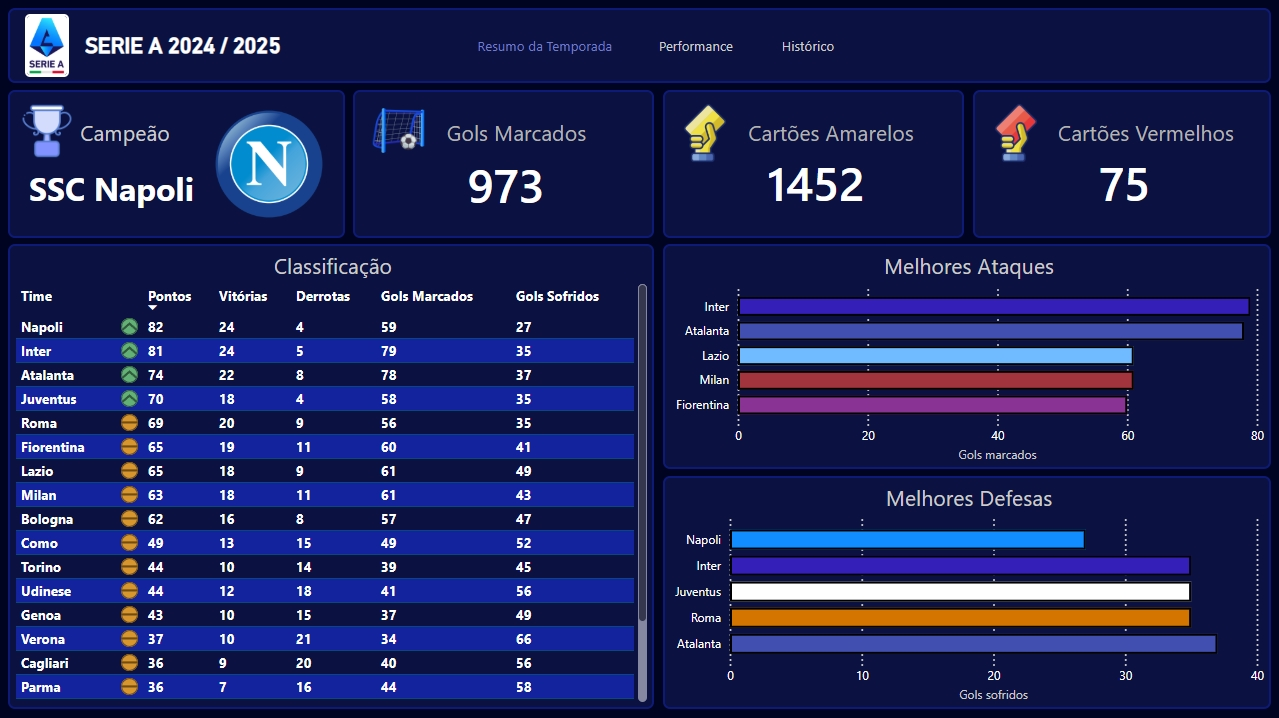

This screenshot's page, from the dashboard's own definition file:
{"tool":"powerbi","page":{"name":"Overview","canvas":[1280,720],"ordinal":0},"visuals":[{"type":"textbox","box":[8,9,1263,75],"z":0},{"type":"image","box":[25,15,44,63],"z":1000},{"type":"actionButton","box":[469,28,152,37],"z":1000,"group":"g1"},{"type":"textbox","box":[79,28,223,37],"z":2000},{"type":"group","id":"g1","title":"Grupo 1","box":[469,28,385,37],"z":3000},{"type":"actionButton","box":[652,28,88,37],"z":3000,"group":"g1"},{"type":"group","id":"g2","title":"Grupo 3","box":[8,91,337,148],"z":4000},{"type":"cardVisual","fields":{"Data":["Min(season_stats.team)"]},"box":[8,91,337,148],"z":4000,"group":"g2"},{"type":"cardVisual","fields":{"Data":["Sum(season_stats.yellow_cards)"]},"box":[663,91,301,148],"z":4000,"group":"g4"},{"type":"actionButton","box":[762,28,92,37],"z":5000,"group":"g1"},{"type":"group","id":"g3","title":"Grupo 4","box":[353,91,301,148],"z":5000},{"type":"image","box":[662,100,85,68],"z":5000,"group":"g4"},{"type":"textbox","box":[67,114,116,43],"z":5000,"group":"g5"},{"type":"textbox","box":[24,162,178,59],"z":5000,"group":"g2"},{"type":"group","id":"g4","title":"Grupo 5","box":[662,91,302,148],"z":6000},{"type":"cardVisual","fields":{"Data":["Sum(season_stats.red_cards)"]},"box":[973,91,298,148],"z":6000,"group":"g6"},{"type":"group","id":"g5","title":"Grupo 2","box":[15,104,168,56],"z":6000,"group":"g2"},{"type":"image","box":[15,104,64,56],"z":6000,"group":"g5"},{"type":"cardVisual","fields":{"Data":["Sum(season_stats.goals)"]},"box":[353,91,301,148],"z":7000,"group":"g3"},{"type":"group","id":"g6","title":"Grupo 6","box":[973,91,298,148],"z":7000},{"type":"textbox","box":[428,114,177,43],"z":8000,"group":"g3"},{"type":"tableEx","title":"Classificação","fields":{"Values":["season_stats.team","season_stats.points","Sum(season_stats.wins)","Sum(season_stats.losses)","Sum(season_stats.goals)","Sum(season_stats.goals_conceded)"]},"box":[8,245,646,465],"z":8000},{"type":"image","box":[193,104,152,122],"z":9000,"group":"g2"},{"type":"image","box":[366,104,64,55],"z":9000,"group":"g3"},{"type":"barChart","title":"Melhores Ataques","fields":{"Category":["season_stats.team"],"Y":["Sum(season_stats.goals)"]},"box":[663,245,608,225],"z":9000},{"type":"textbox","box":[731,114,200,43],"z":10000,"group":"g4"},{"type":"barChart","title":"Melhores Defesas","fields":{"Category":["season_stats.team"],"Y":["Sum(season_stats.goals_conceded)"]},"box":[663,477,608,233],"z":10000},{"type":"textbox","box":[1046,114,200,43],"z":11000,"group":"g6"},{"type":"image","box":[973,100,85,68],"z":12000,"group":"g6"}]}

Visuals, with their boxes in screenshot pixels (x1, y1, x2, y2), scaled from the page's 1280x720 canvas onto the 1279x718 screenshot:
textbox: BBox(8, 9, 1270, 84)
image: BBox(25, 15, 69, 78)
actionButton: BBox(469, 28, 621, 65)
textbox: BBox(79, 28, 302, 65)
"Grupo 1" group: BBox(469, 28, 853, 65)
actionButton: BBox(651, 28, 739, 65)
"Grupo 3" group: BBox(8, 91, 345, 238)
cardVisual - Min(season_stats.team): BBox(8, 91, 345, 238)
cardVisual - Sum(season_stats.yellow_cards): BBox(662, 91, 963, 238)
actionButton: BBox(761, 28, 853, 65)
"Grupo 4" group: BBox(353, 91, 653, 238)
image: BBox(661, 100, 746, 168)
textbox: BBox(67, 114, 183, 157)
textbox: BBox(24, 162, 202, 220)
"Grupo 5" group: BBox(661, 91, 963, 238)
cardVisual - Sum(season_stats.red_cards): BBox(972, 91, 1270, 238)
"Grupo 2" group: BBox(15, 104, 183, 160)
image: BBox(15, 104, 79, 160)
cardVisual - Sum(season_stats.goals): BBox(353, 91, 653, 238)
"Grupo 6" group: BBox(972, 91, 1270, 238)
textbox: BBox(428, 114, 605, 157)
"Classificação" tableEx: BBox(8, 244, 653, 708)
image: BBox(193, 104, 345, 225)
image: BBox(366, 104, 430, 159)
"Melhores Ataques" barChart: BBox(662, 244, 1270, 469)
textbox: BBox(730, 114, 930, 157)
"Melhores Defesas" barChart: BBox(662, 476, 1270, 708)
textbox: BBox(1045, 114, 1245, 157)
image: BBox(972, 100, 1057, 168)
